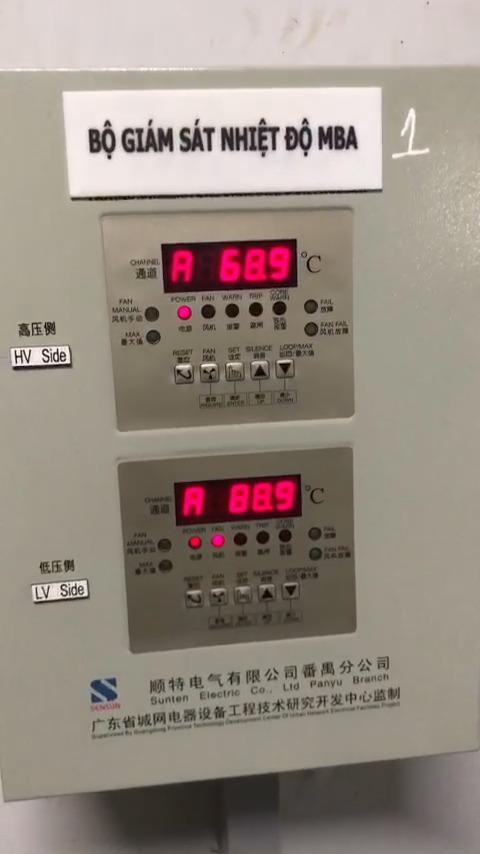led: (249, 303, 264, 317), (177, 305, 192, 319), (145, 307, 159, 322), (146, 330, 160, 345), (225, 303, 239, 317), (201, 304, 215, 318), (233, 532, 247, 546), (158, 538, 172, 552), (308, 547, 322, 561), (304, 299, 317, 313), (273, 302, 287, 315), (305, 322, 318, 336), (309, 527, 322, 541), (278, 529, 292, 542), (257, 531, 270, 545), (211, 535, 225, 548), (189, 536, 202, 550), (159, 560, 173, 573)
